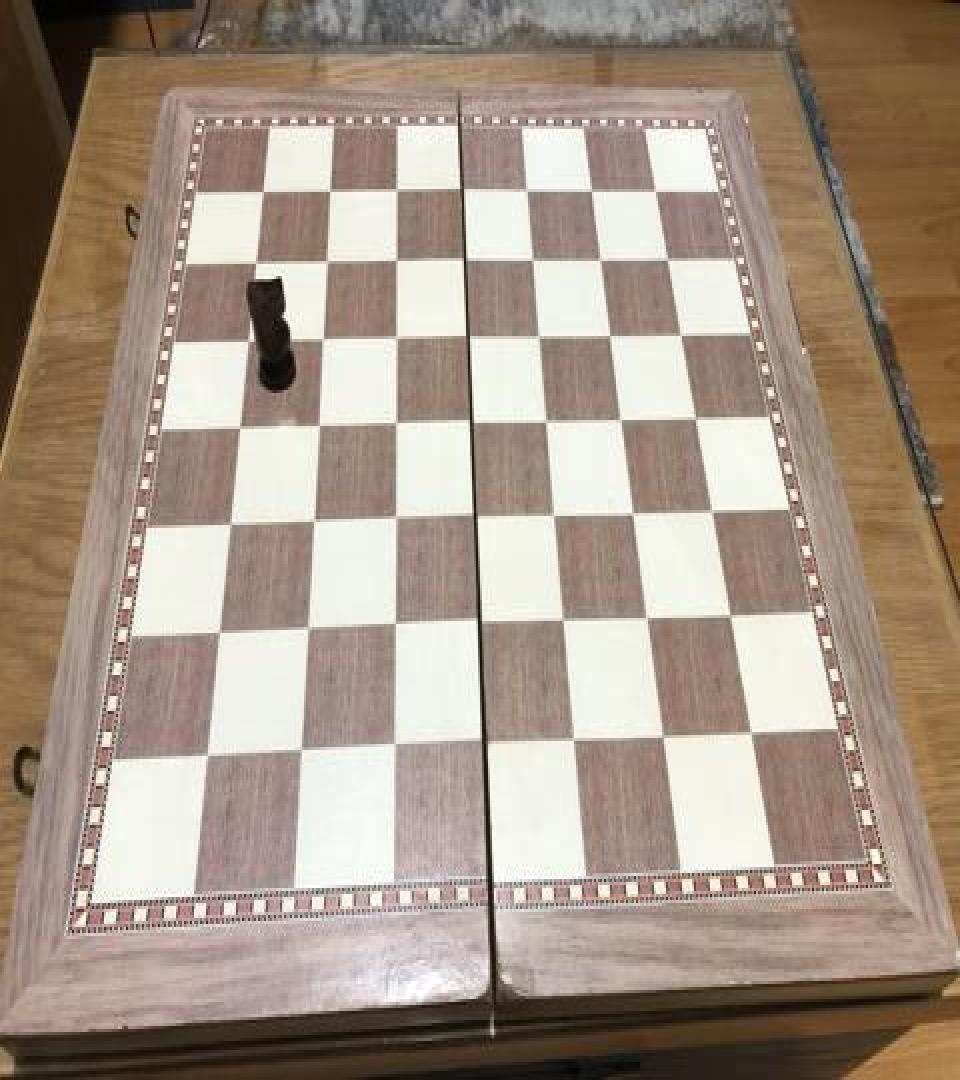xcorner: (635, 595, 659, 632), (286, 733, 310, 770), (641, 171, 665, 207), (578, 171, 602, 207), (514, 171, 538, 207), (449, 171, 473, 207), (384, 171, 408, 207), (318, 171, 342, 207), (251, 171, 275, 207), (653, 238, 677, 274), (587, 238, 611, 274), (520, 238, 544, 274), (452, 240, 476, 276), (383, 240, 407, 276), (314, 240, 338, 276), (244, 242, 268, 278), (666, 314, 690, 350), (597, 314, 621, 350), (526, 315, 550, 351), (455, 316, 479, 352), (383, 316, 407, 352), (310, 318, 334, 354), (236, 320, 260, 356), (681, 396, 705, 432), (608, 398, 632, 434), (534, 399, 558, 435), (458, 400, 482, 436), (382, 402, 406, 438), (305, 404, 329, 440), (226, 405, 250, 441), (698, 489, 722, 525), (621, 490, 645, 526), (542, 494, 566, 530), (462, 495, 486, 531), (381, 498, 405, 534), (299, 501, 323, 537), (216, 502, 240, 538), (717, 592, 741, 628), (551, 600, 575, 636), (466, 603, 490, 639), (380, 606, 404, 642), (293, 609, 317, 645), (205, 612, 229, 648), (738, 711, 762, 747), (651, 716, 675, 752), (562, 720, 586, 756), (471, 724, 495, 760), (380, 729, 404, 765), (192, 738, 216, 774)
